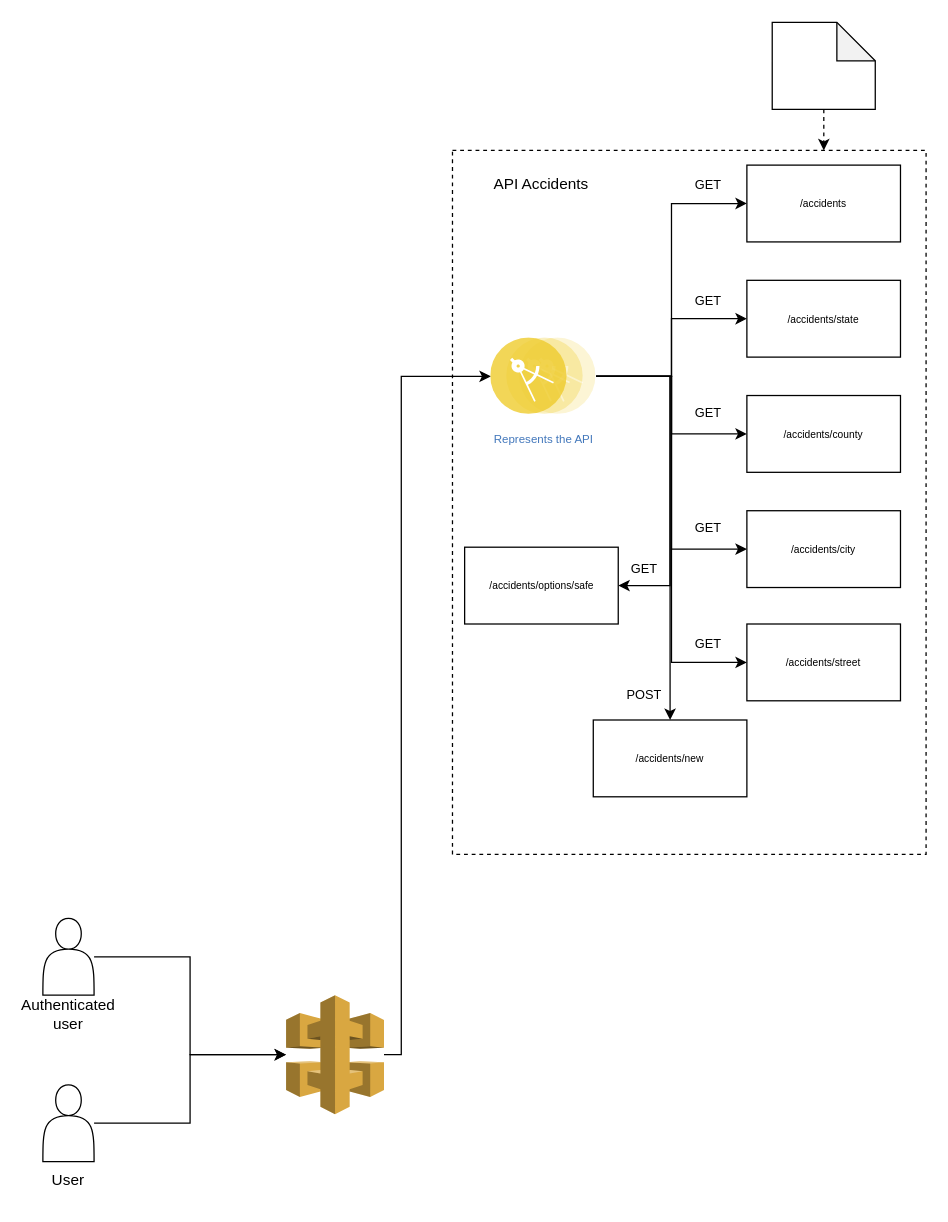
This 948x1222 diagram has some shape labels left out. Here are the shapes that lost their labels. From the top down, the centre of each, then its label:
At [823,65]: "REST API using HTTP protocol".
At [334,1054]: "API GATEWAY".
